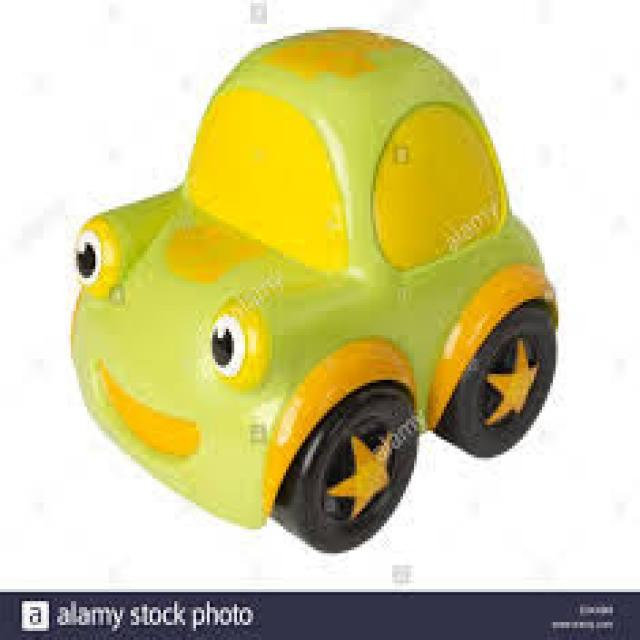Car: (68, 24, 558, 553)
